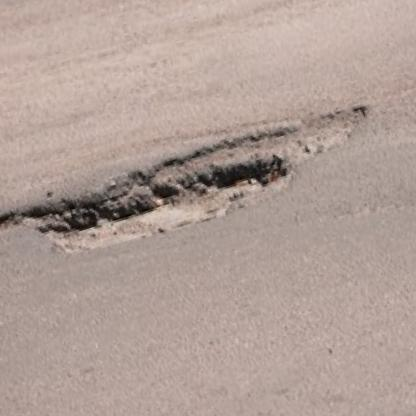pothole: (0, 101, 375, 290)
